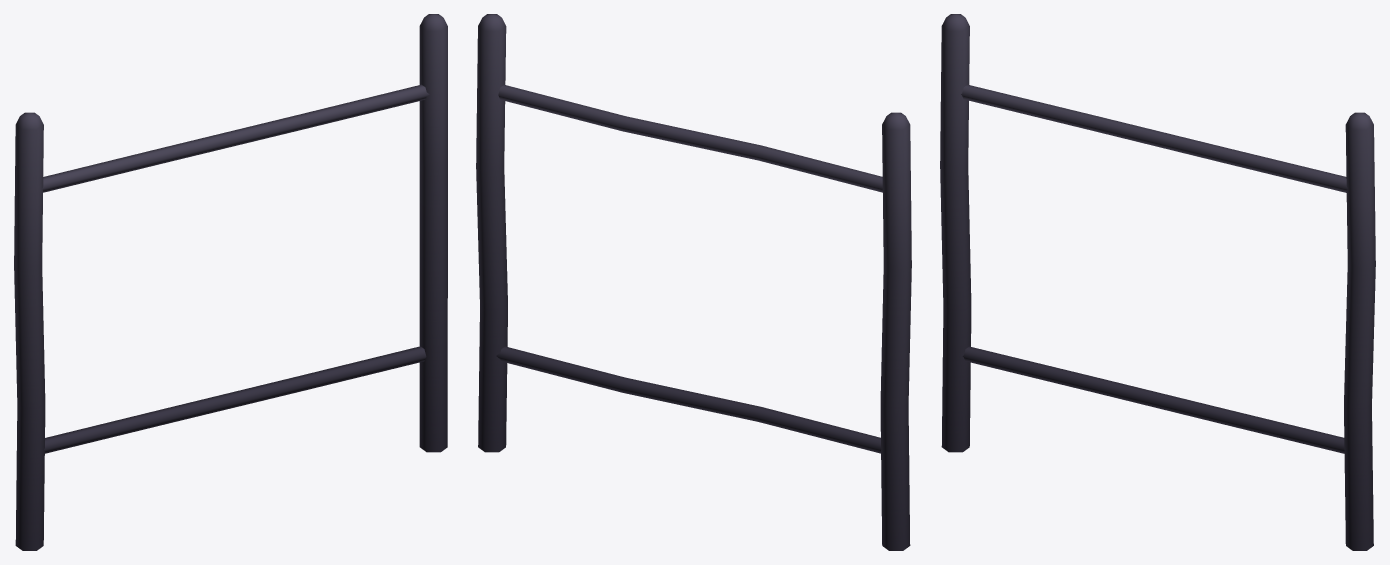
File: FencceFrame.fbx
The picture shows the model from 3 angles, left to right: view 1: azimuth 30°, elevation 25°; view 2: azimuth 150°, elevation 25°; view 3: azimuth 330°, elevation 25°; orthographic projection.
Parts seen in each view (by area): view 1: FensFrame; view 2: FensFrame; view 3: FensFrame.
Part boxes in pixels (bbox=[...]): FensFrame: bbox=[14, 14, 447, 550]; FensFrame: bbox=[476, 14, 911, 550]; FensFrame: bbox=[940, 14, 1375, 550].
Bounding box in the file's own units: 487 × 471 × 31.51.
